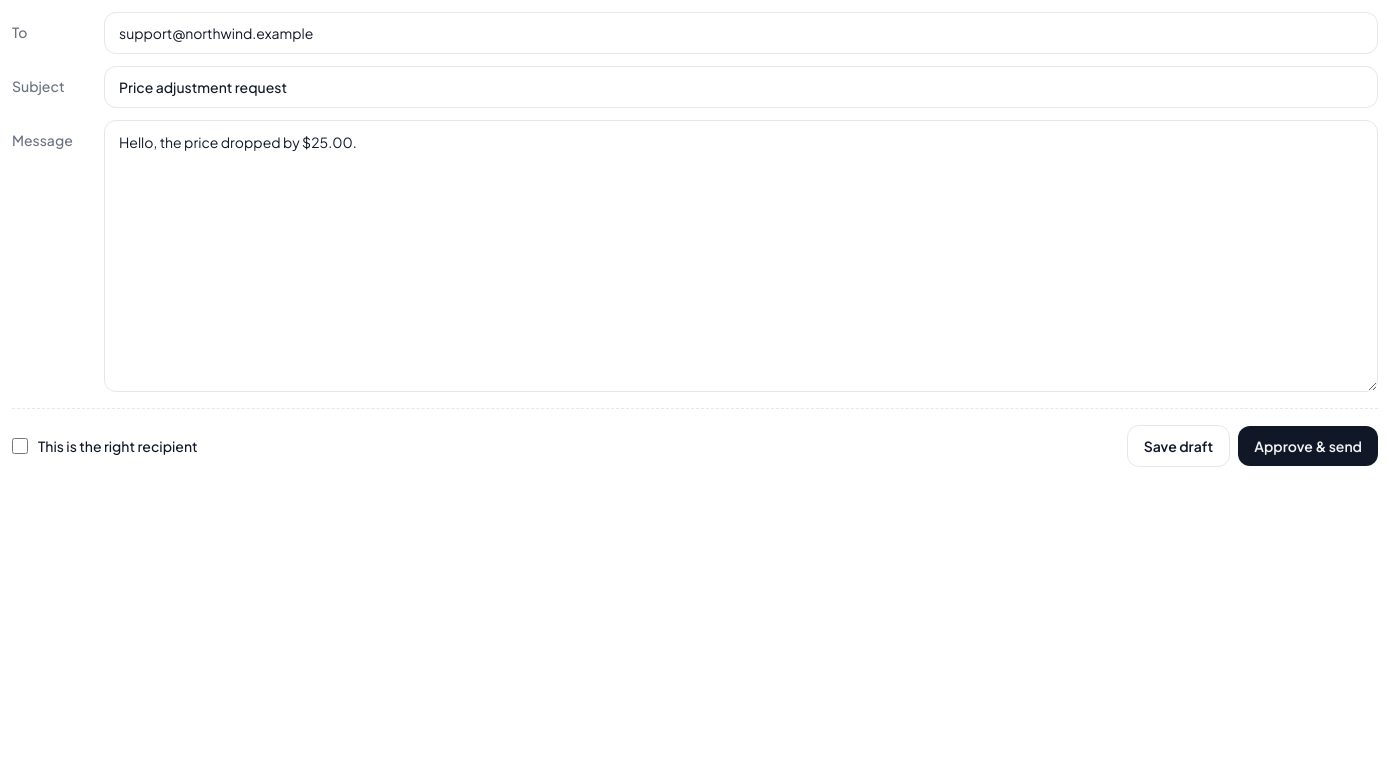
Scenario: Composer: prepareSend before every send › rate_limited says to try again later
This screenshot has width=1390, height=780.
Click the button "Approve & send" at [1308, 446], box [1238,426,1378,466]
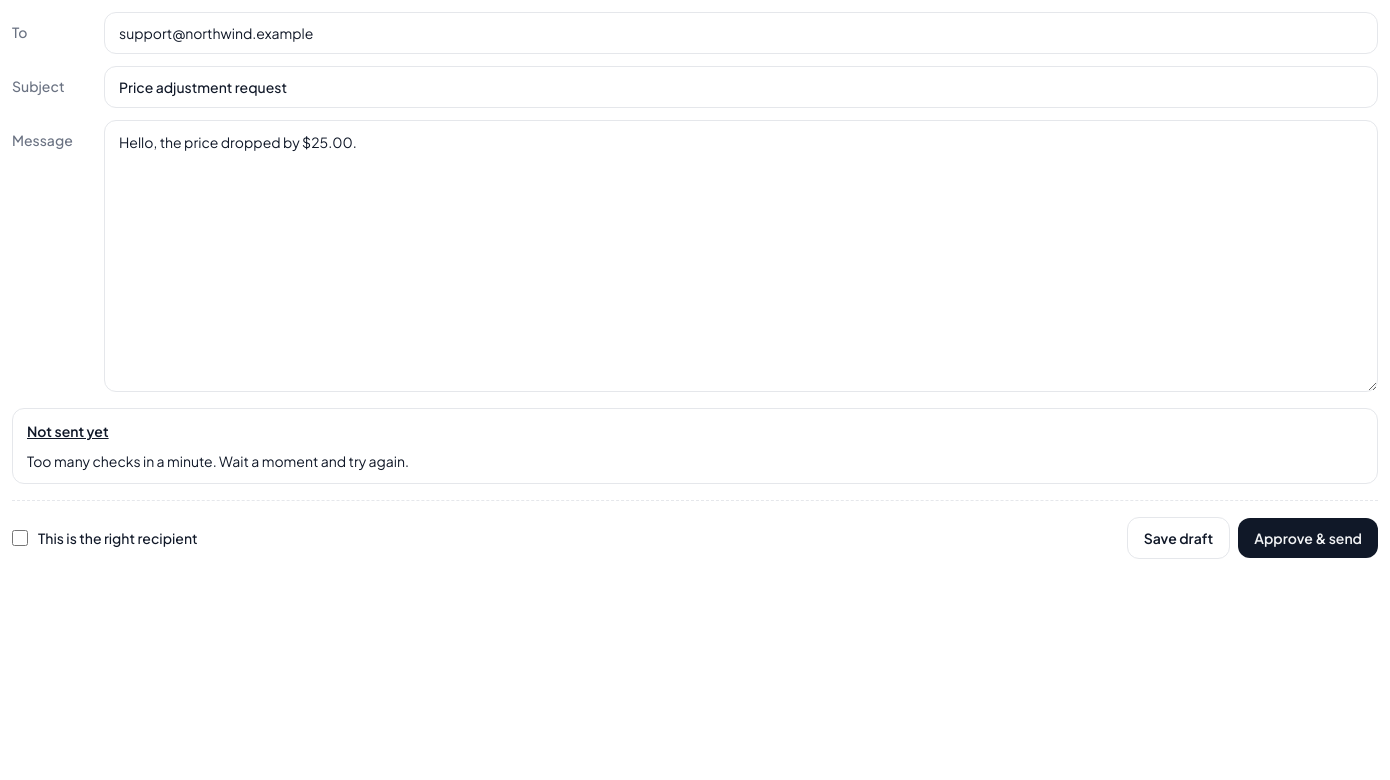
Result: the element "Not sent yet" shows "Wait a moment" at [27,452,409,470]
